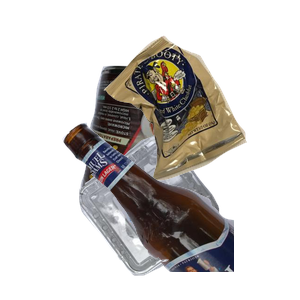glass: (60, 120, 300, 300)
metal: (78, 63, 266, 243)
plastic: (77, 133, 289, 300)
trash: (101, 33, 300, 206)
